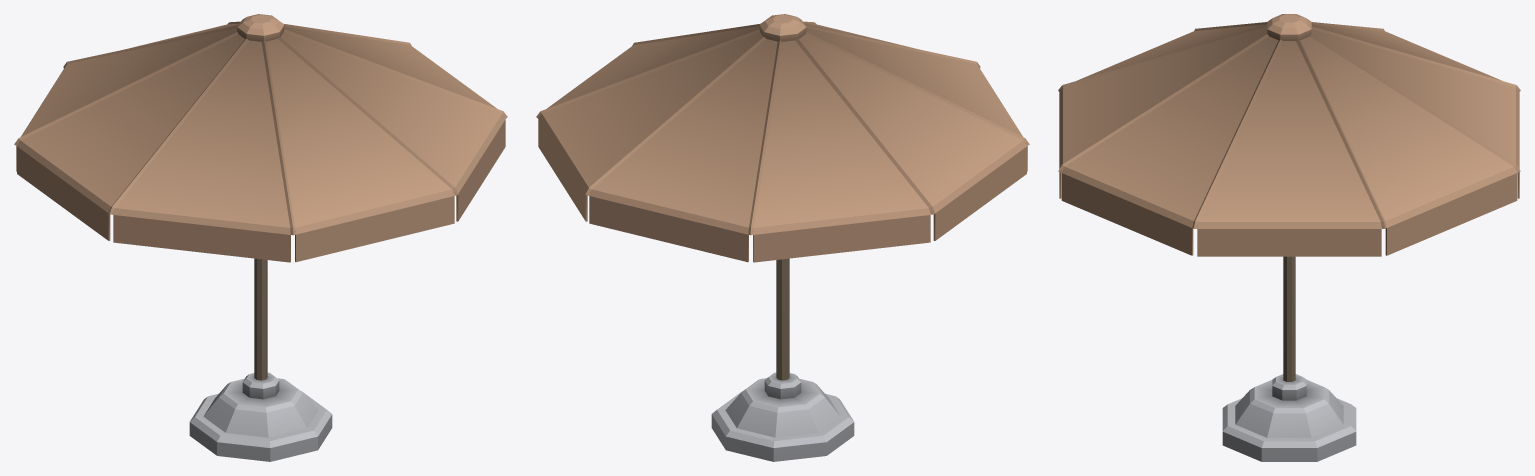
File: parasol.glb
3 renders of one model, left to right at view 1: azimuth 30°, elevation 25°; view 2: azimuth 150°, elevation 25°; view 3: azimuth 270°, elevation 25°, orthographic.
Parts seen in each view (by area): view 1: parasol; view 2: parasol; view 3: parasol.
Part boxes in pixels (left/top/right/bottom): parasol: left=14, top=14, right=507, bottom=461; parasol: left=536, top=14, right=1029, bottom=461; parasol: left=1058, top=14, right=1520, bottom=461.
Size of the model in its own units: 2.72 by 2.69 by 2.72.
